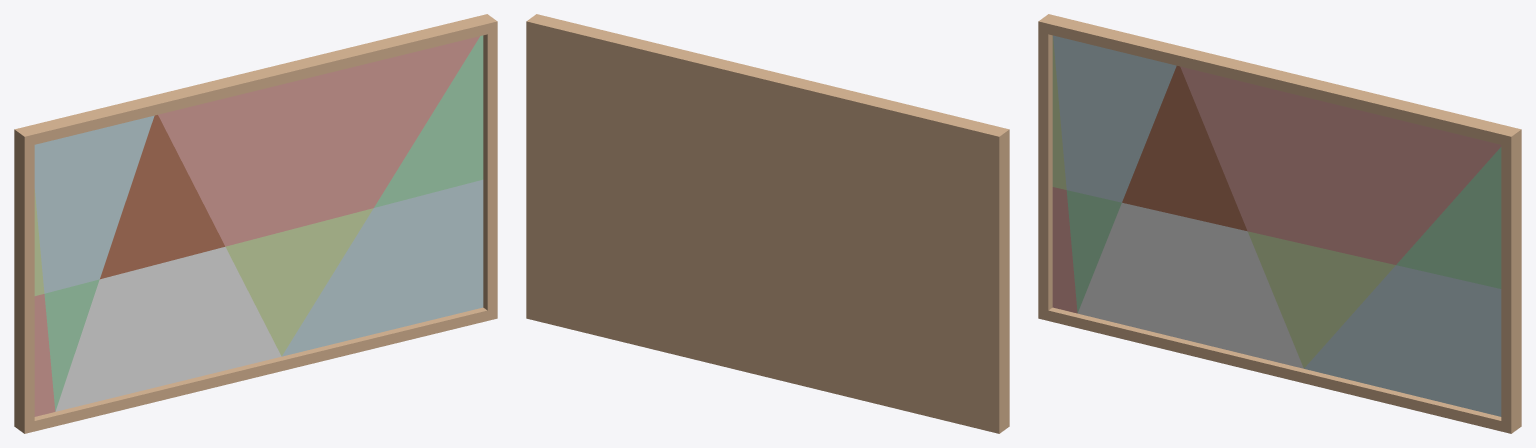
The model's file is picture4.fbx.
The picture shows the model from 3 angles, left to right: view 1: azimuth 30°, elevation 25°; view 2: azimuth 150°, elevation 25°; view 3: azimuth 330°, elevation 25°; orthographic projection.
Visible parts, largest first — view 1: Cube_19; view 2: Cube_19; view 3: Cube_19.
Boxes of the visible parts, <box> form: Cube_19: <box>14,14,497,433</box>; Cube_19: <box>526,14,1009,433</box>; Cube_19: <box>1038,14,1521,433</box>.
Size of the model in its own units: 42.49 by 25.51 by 1.58.
